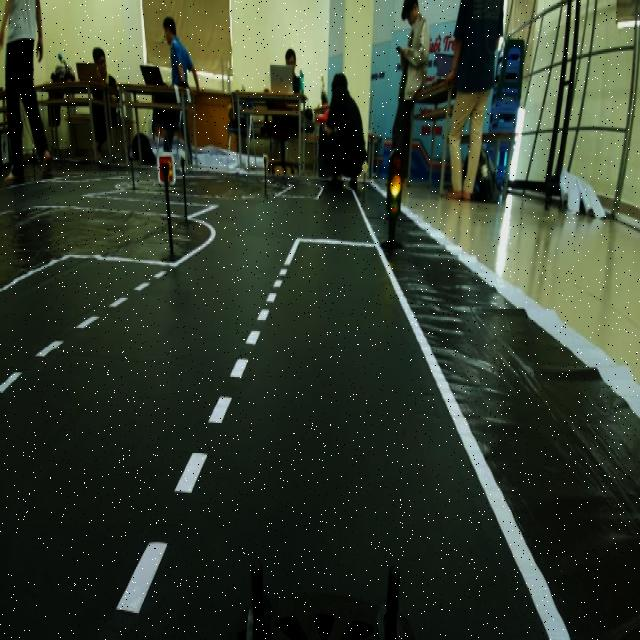trafficlight: (380, 150, 409, 250)
